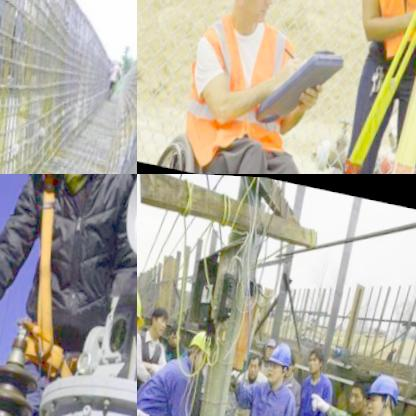helmet: (210, 0, 294, 37), (359, 364, 406, 416), (265, 335, 297, 385), (137, 268, 155, 351), (184, 324, 214, 371)
